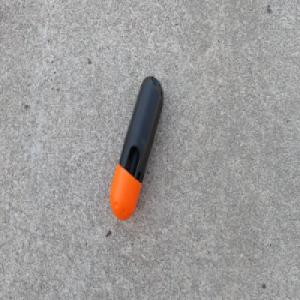PlasticPart: (108, 73, 164, 222)
